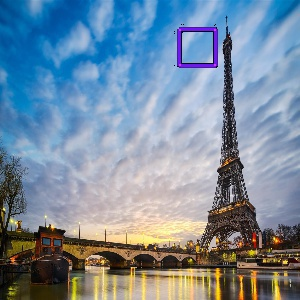square: (175, 24, 220, 71)
